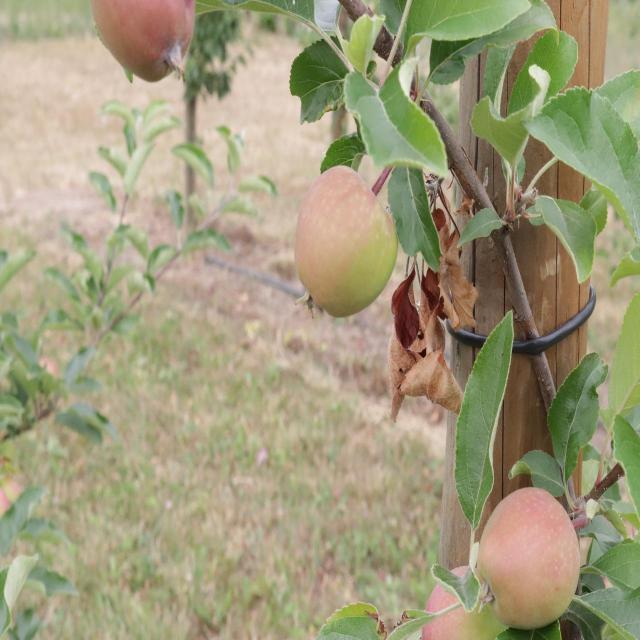-FireBlight-: (388, 214, 466, 419)
